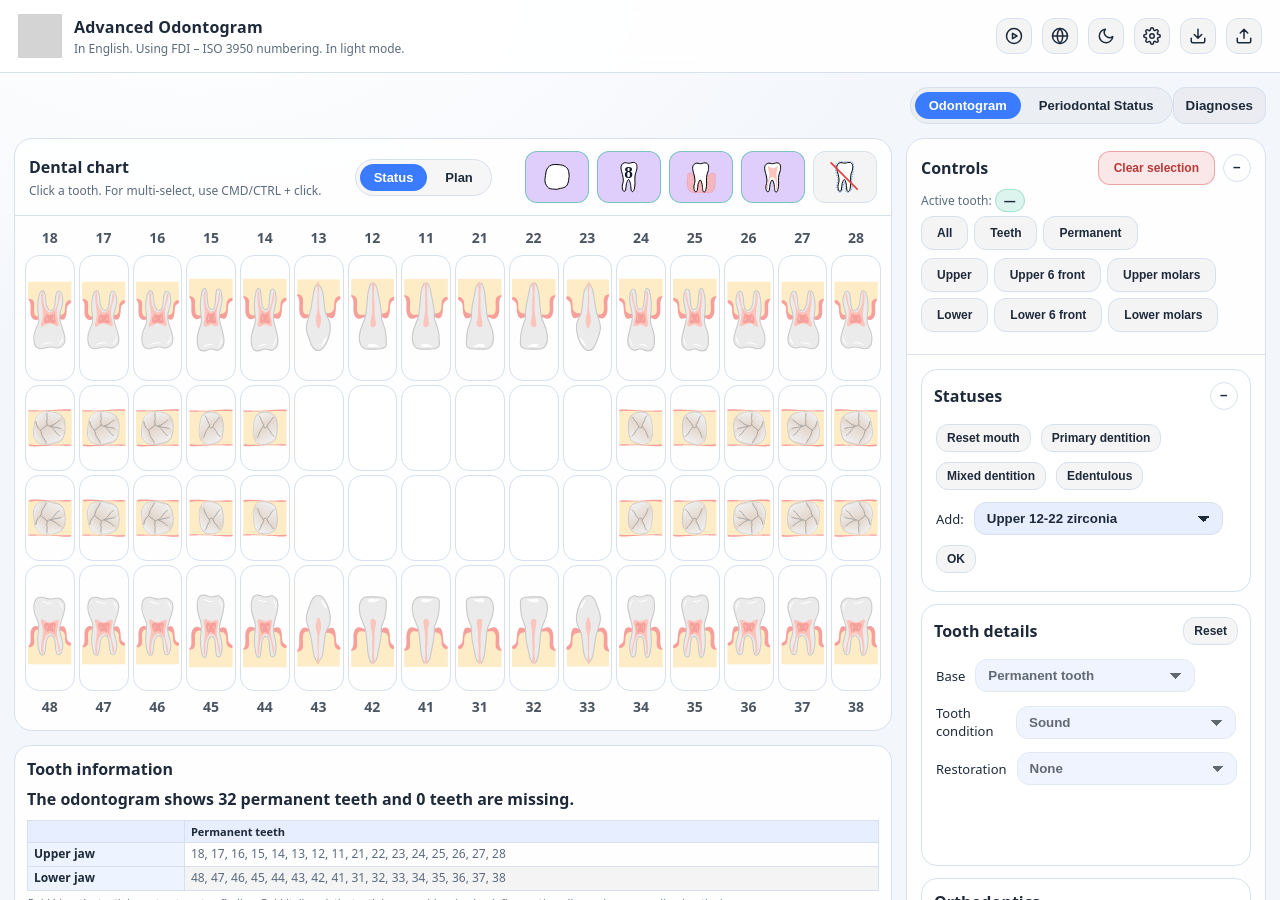
Popups interaction characterization › A. Zoom Popover actions › clicking the overlay backdrop closes the zoom popover
Press the mouse on the option named "11" at point(426, 318), box [401, 255, 451, 381]
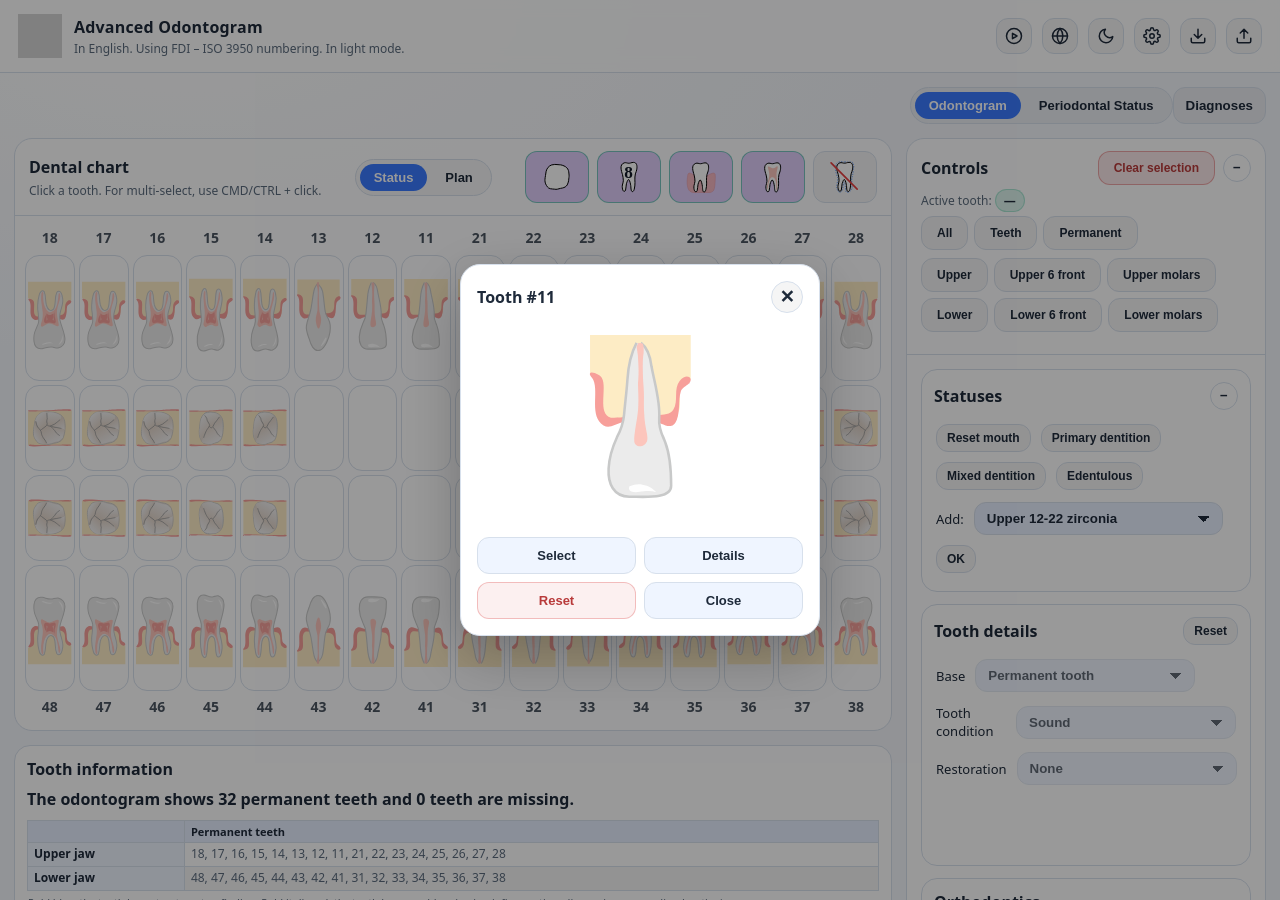
Result: the element with class "odon-zoom-overlay" is shown
Click the element with class "odon-zoom-overlay" at point(77, 450), box [0, 0, 1279, 899]
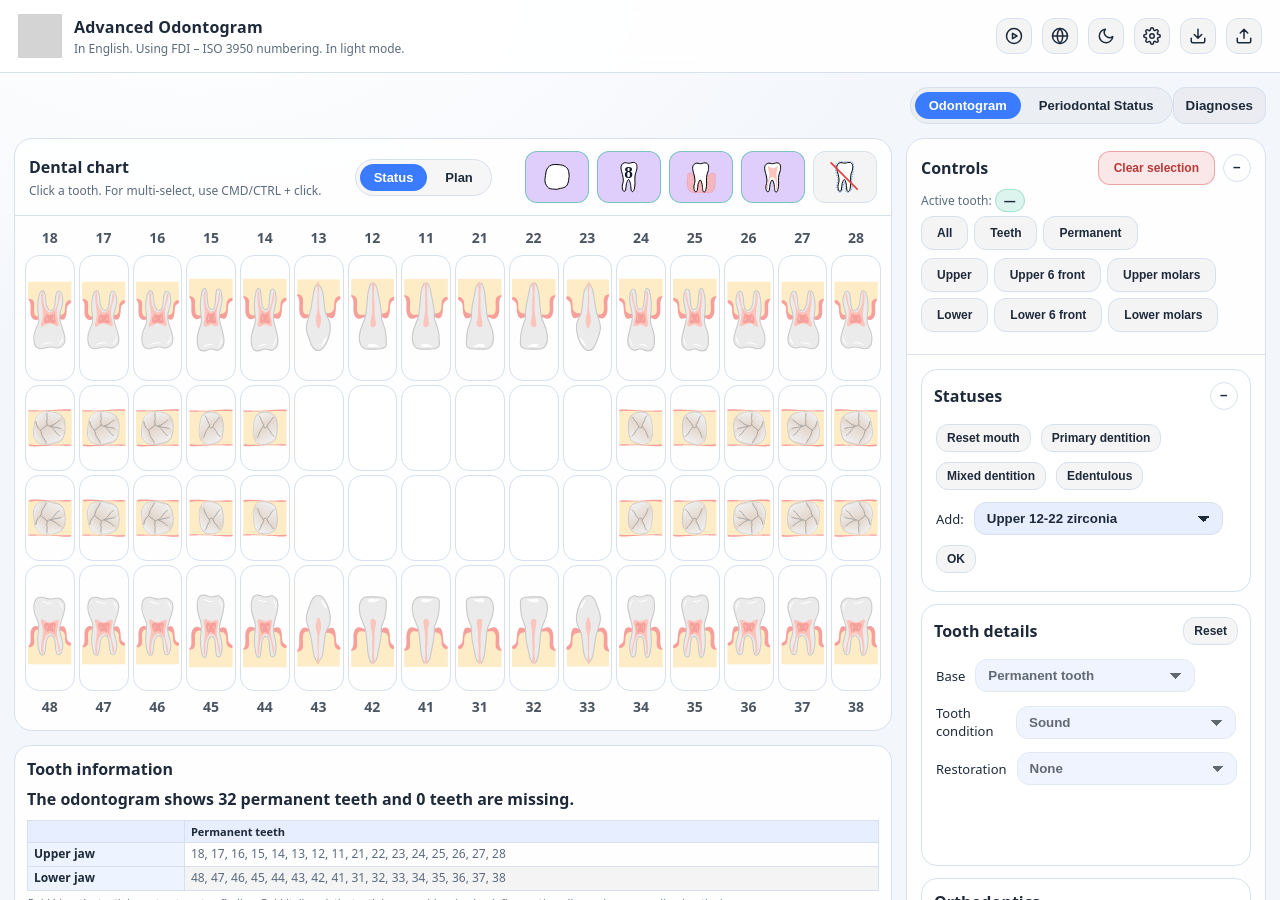
Result: the element with class "odon-zoom-popover" is gone
